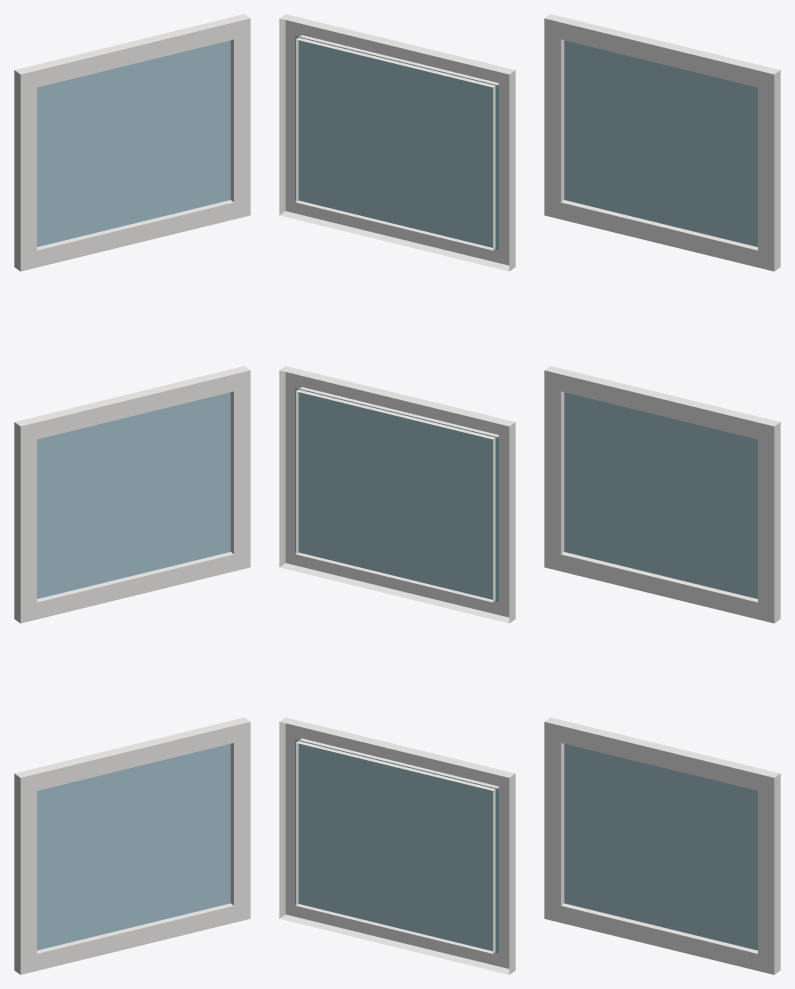
The model's file is Photoframe_10.fbx.
3 views of the same model, side by side, from view 1: azimuth 30°, elevation 25°; view 2: azimuth 150°, elevation 25°; view 3: azimuth 330°, elevation 25° (orthographic).
Visible parts, largest first — view 1: Photoframe_10; view 2: Photoframe_10; view 3: Photoframe_10.
Part boxes in pixels (box(x1,y1,x2,y2)): Photoframe_10: box(14, 14, 250, 974); Photoframe_10: box(279, 14, 515, 974); Photoframe_10: box(544, 14, 780, 974).
Size of the model in its own units: 28.9 by 1.32 by 108.
